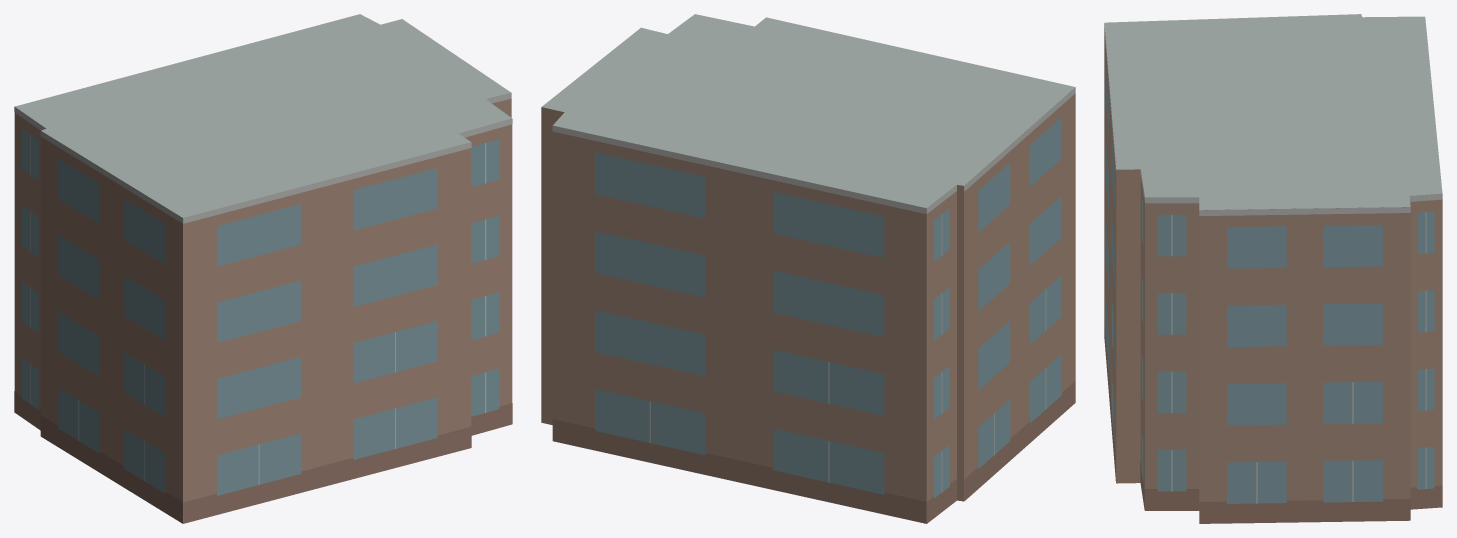
Rendered from survey-upis-32559081.glb.
The picture shows the model from 3 angles, left to right: view 1: azimuth 30°, elevation 25°; view 2: azimuth 150°, elevation 25°; view 3: azimuth 270°, elevation 25°; orthographic projection. The views are drawn at different scales.
Visible parts, largest first — view 1: survey-upis-32559081.tmp; view 2: survey-upis-32559081.tmp; view 3: survey-upis-32559081.tmp.
Part boxes in pixels (x1,y1,x2,y2): survey-upis-32559081.tmp: (14, 14, 512, 523); survey-upis-32559081.tmp: (541, 14, 1075, 523); survey-upis-32559081.tmp: (1104, 14, 1442, 523).
Size of the model in its own units: 17.18 by 12.8 by 12.52.
